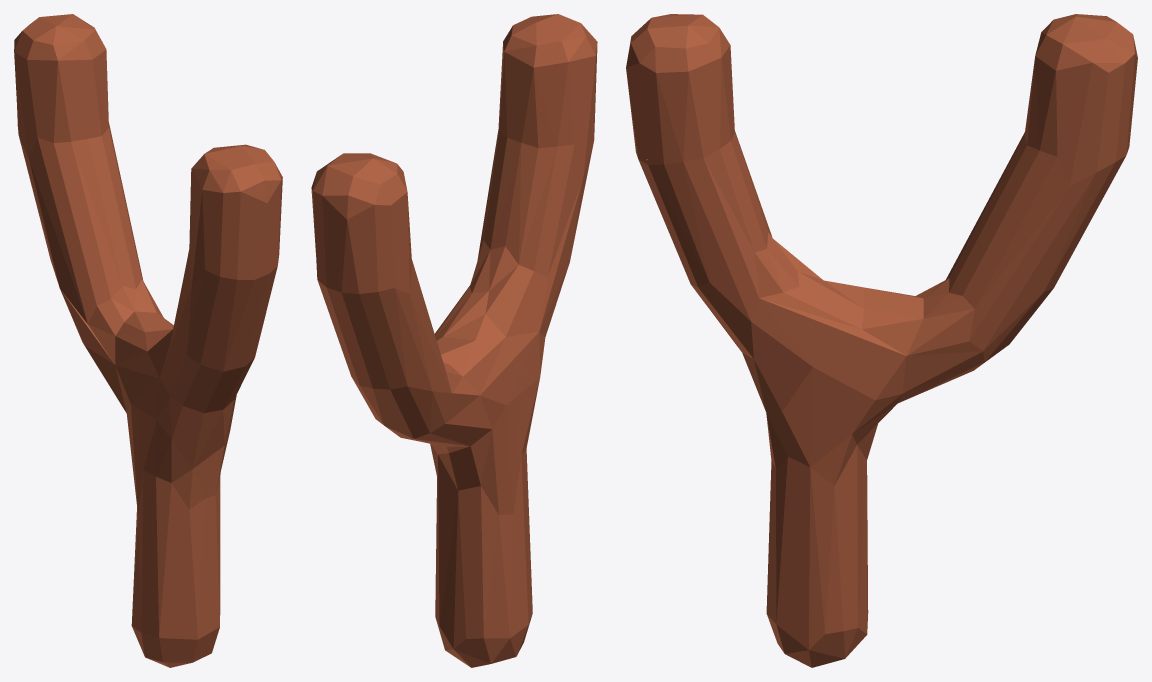
The model's file is slingshot.fbx.
3 renders of one model, left to right at view 1: azimuth 30°, elevation 25°; view 2: azimuth 150°, elevation 25°; view 3: azimuth 270°, elevation 25°, orthographic. The views are drawn at different scales.
Parts seen in each view (by area): view 1: Cube.001; view 2: Cube.001; view 3: Cube.001.
Part boxes in pixels (x1,y1,x2,y2): Cube.001: (14,14,282,667); Cube.001: (311,14,597,667); Cube.001: (626,14,1137,667).
Size of the model in its own units: 72.8 by 471 by 342.
